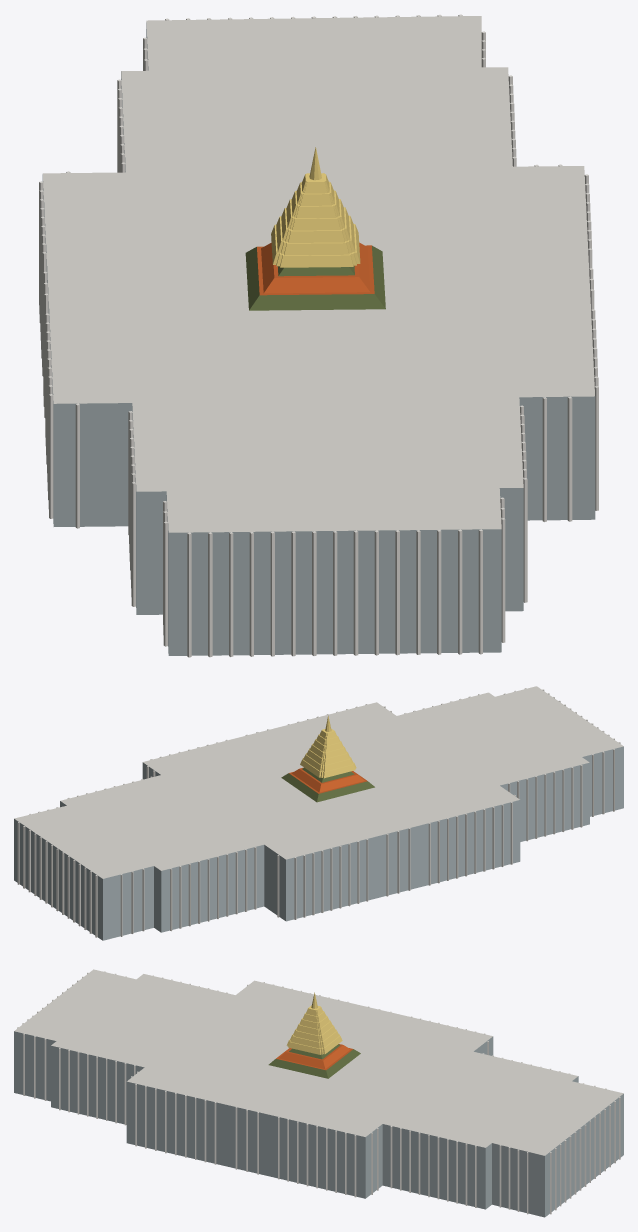
Rendered from parliament.glb.
3 views of the same model, one above another, from view 1: azimuth 30°, elevation 25°; view 2: azimuth 150°, elevation 25°; view 3: azimuth 270°, elevation 25° (orthographic). The views are drawn at different scales.
Visible parts, largest first — view 1: parliament; view 2: parliament; view 3: parliament.
Boxes of the visible parts, x1,y1,x2,y2 form: parliament: (39,14,598,657); parliament: (14,686,623,940); parliament: (14,969,623,1217).
Bounding box in the file's own units: 298 × 96 × 412.
